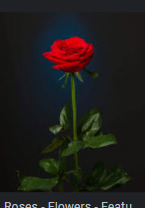RedRose: (42, 34, 95, 75)
